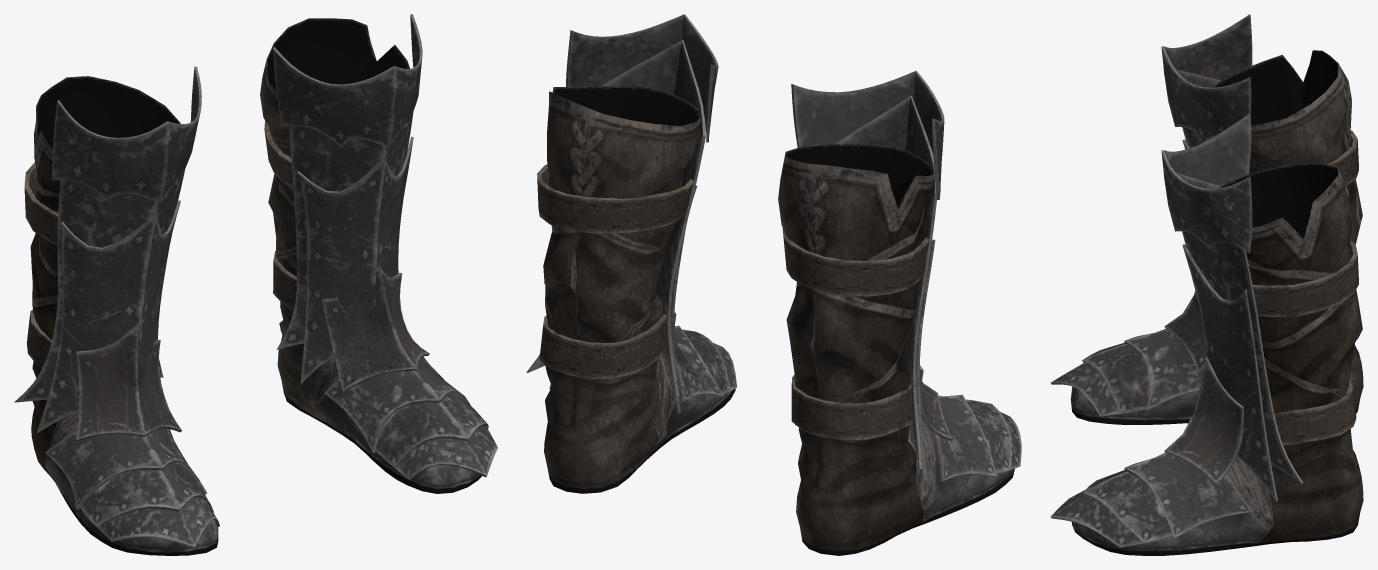
The model's file is sk_uruk_mordor_greaves_heavy_c.fbx.
3 renders of one model, left to right at view 1: azimuth 30°, elevation 25°; view 2: azimuth 150°, elevation 25°; view 3: azimuth 270°, elevation 25°, orthographic. The views are drawn at different scales.
Parts seen in each view (by area): view 1: sk_uruk_mordor_greaves_heavy_c.0, sk_uruk_mordor_greaves_heavy_c.1; view 2: sk_uruk_mordor_greaves_heavy_c.0, sk_uruk_mordor_greaves_heavy_c.1; view 3: sk_uruk_mordor_greaves_heavy_c.0, sk_uruk_mordor_greaves_heavy_c.1.
Part boxes in pixels (x1=…): sk_uruk_mordor_greaves_heavy_c.0: x1=14, y1=14, x2=497, y2=555; sk_uruk_mordor_greaves_heavy_c.1: x1=24, y1=121, x2=296, y2=369; sk_uruk_mordor_greaves_heavy_c.0: x1=526, y1=14, x2=1021, y2=555; sk_uruk_mordor_greaves_heavy_c.1: x1=537, y1=164, x2=928, y2=440; sk_uruk_mordor_greaves_heavy_c.0: x1=1050, y1=14, x2=1363, y2=555; sk_uruk_mordor_greaves_heavy_c.1: x1=1252, y1=130, x2=1358, y2=444.
Size of the model in its own units: 0.5066 by 0.3672 by 0.4827.
Materials: 2 (2 with a texture image).
